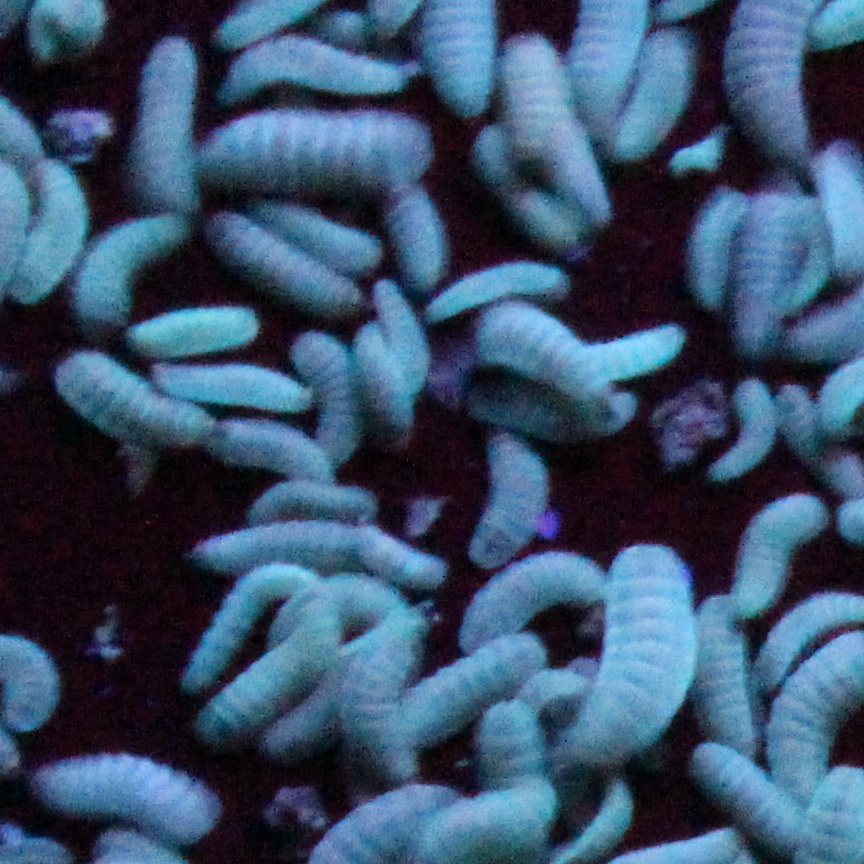larve: (569, 541, 690, 767), (200, 600, 340, 732), (205, 112, 436, 187), (174, 560, 305, 689), (203, 212, 366, 313), (391, 637, 545, 739), (36, 755, 228, 836), (457, 553, 605, 651), (216, 32, 421, 101), (55, 353, 214, 441), (729, 181, 810, 353), (726, 496, 826, 620), (686, 744, 805, 848), (133, 36, 200, 206), (79, 217, 183, 324), (469, 434, 548, 568), (12, 156, 83, 305), (700, 594, 759, 760), (621, 27, 688, 155), (210, 418, 333, 487), (426, 262, 571, 320), (186, 525, 362, 572), (427, 1, 496, 117), (503, 29, 566, 156), (259, 198, 384, 262), (357, 322, 419, 441), (688, 184, 747, 308), (157, 365, 317, 410), (707, 382, 779, 481), (576, 320, 690, 381), (124, 306, 262, 350), (391, 184, 448, 289), (562, 782, 633, 862), (357, 525, 447, 586), (240, 482, 376, 522)
